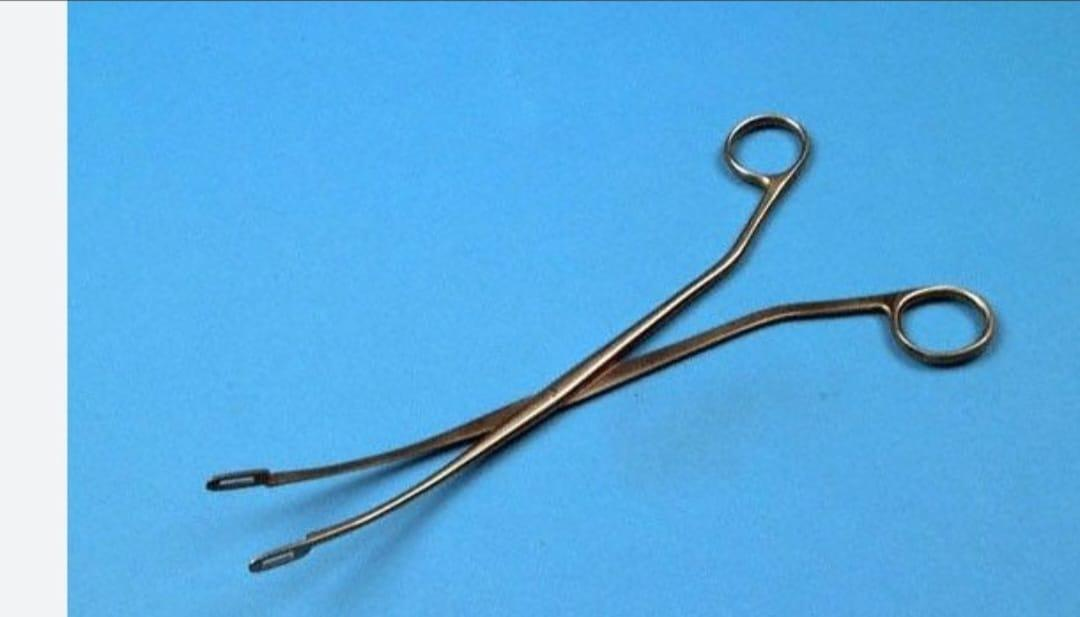Desjardin Forceps: (188, 108, 1006, 579)
